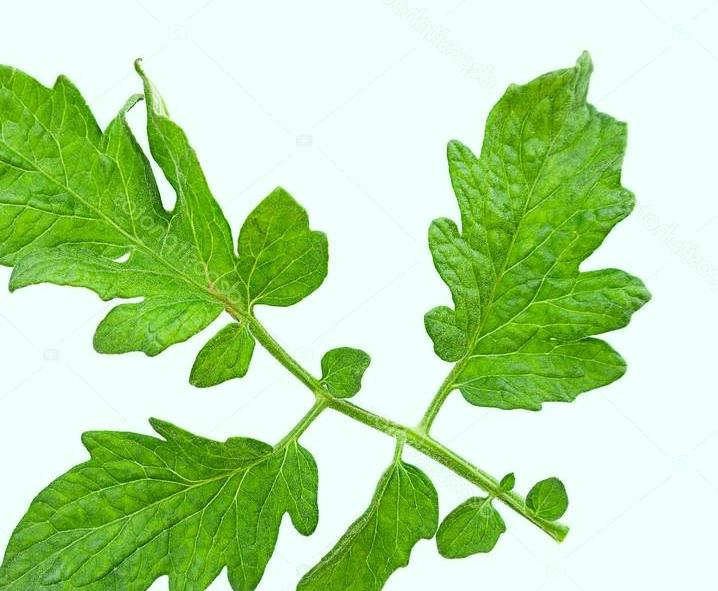Tomato leaf: (0, 0, 363, 377), (404, 50, 668, 407), (0, 430, 322, 591), (281, 442, 444, 591)
